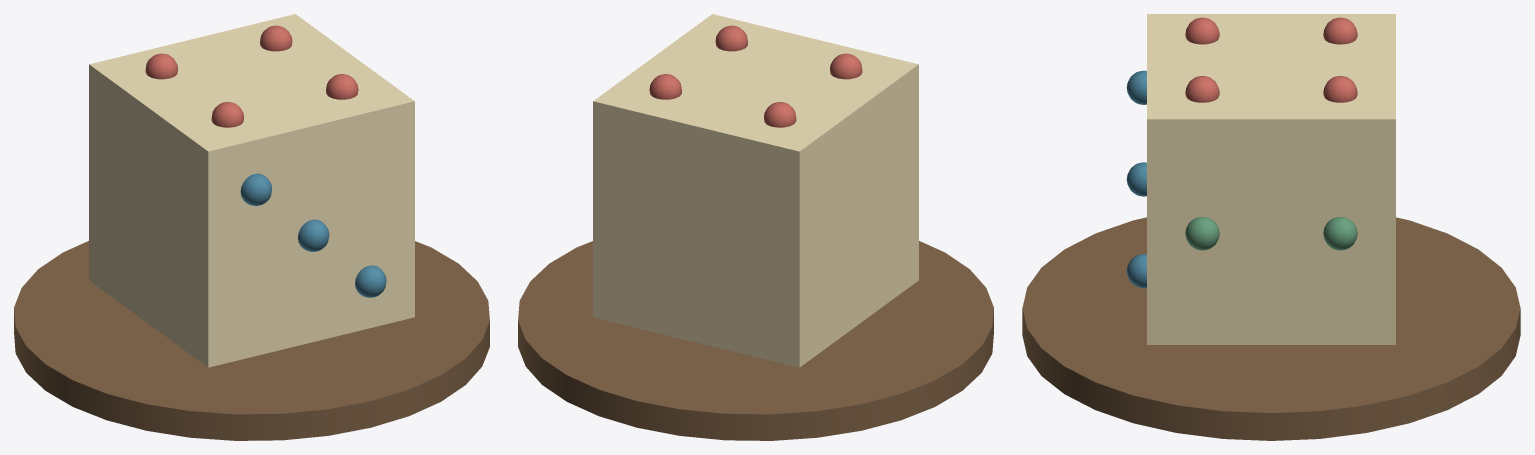
3 renders of one model, left to right at view 1: azimuth 30°, elevation 25°; view 2: azimuth 150°, elevation 25°; view 3: azimuth 270°, elevation 25°, orthographic. The views are drawn at different scales.
Bounding box in the file's own units: 1.3 × 0.828 × 1.3.
